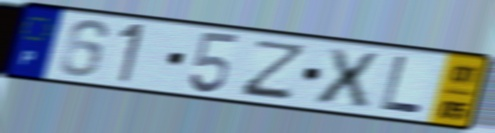1: (116, 22, 147, 86)
5: (187, 31, 241, 95)
6: (57, 18, 111, 79)
L: (378, 54, 425, 117)
X: (312, 46, 382, 110)
Z: (236, 38, 311, 102)
